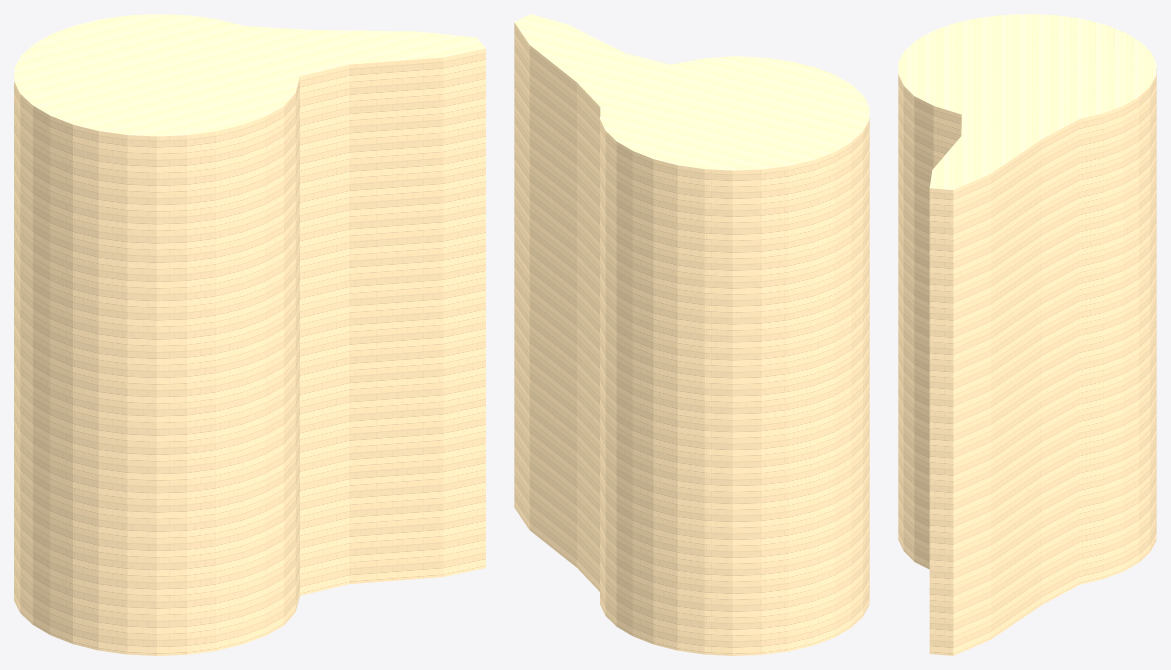
Rendered from landmark-maiden-tower.glb.
3 renders of one model, left to right at view 1: azimuth 30°, elevation 25°; view 2: azimuth 150°, elevation 25°; view 3: azimuth 270°, elevation 25°, orthographic. The views are drawn at different scales.
Parts seen in each view (by area): view 1: maiden-tower; view 2: maiden-tower; view 3: maiden-tower.
Boxes of the visible parts, x1=… form: maiden-tower: x1=14, y1=14, x2=485, y2=655; maiden-tower: x1=514, y1=14, x2=869, y2=655; maiden-tower: x1=898, y1=14, x2=1156, y2=655.
Bounding box in the file's own units: 26.31 × 32.44 × 16.31.
Materials: 1 (1 with a texture image).
